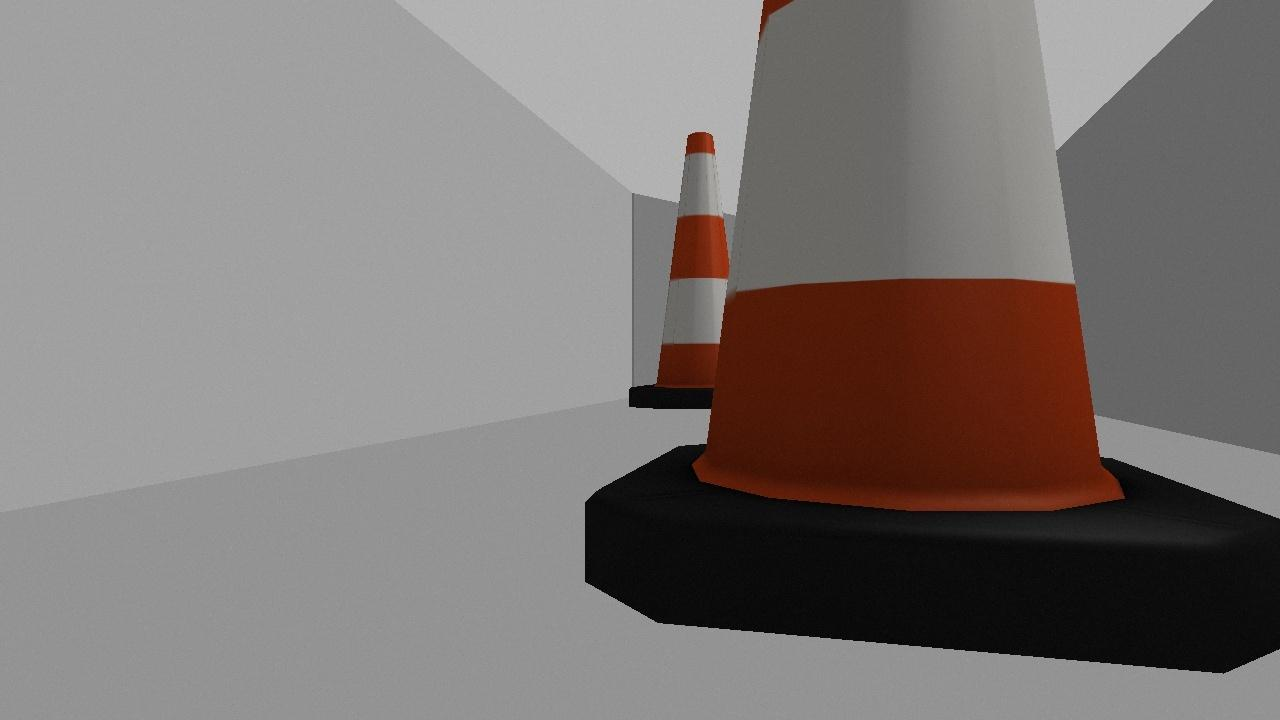cone_barrel: (561, 0, 1279, 682), (617, 119, 780, 422)
